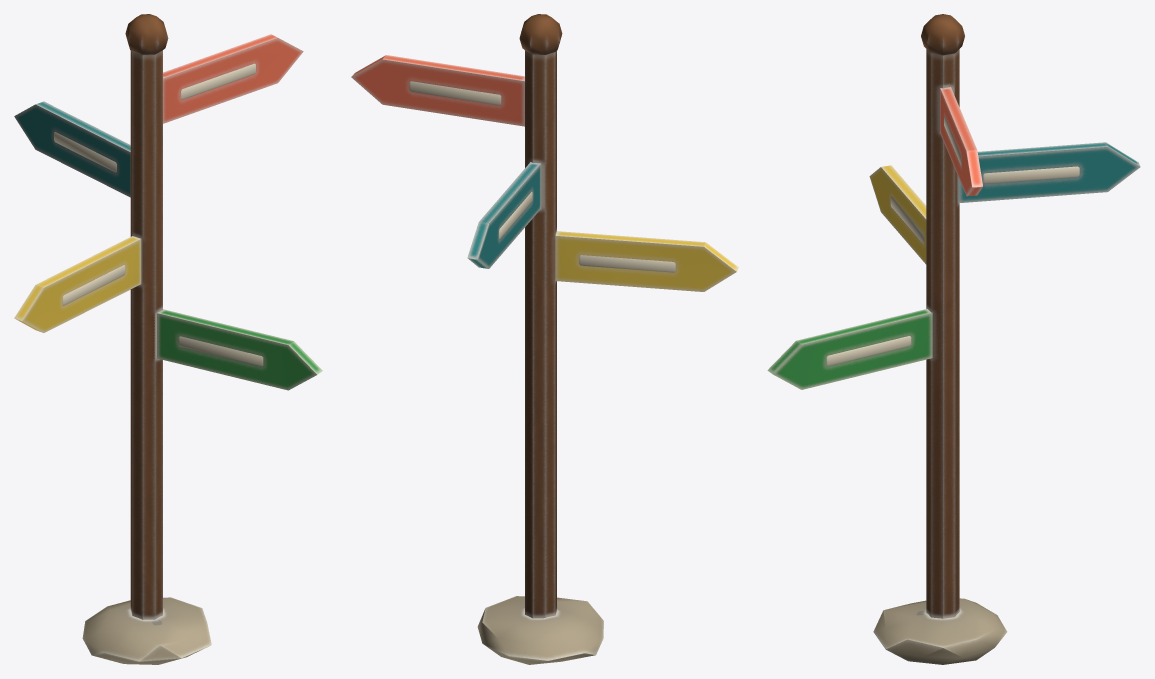
File: dress_signpost.glb
3 renders of one model, left to right at view 1: azimuth 30°, elevation 25°; view 2: azimuth 150°, elevation 25°; view 3: azimuth 270°, elevation 25°, orthographic.
Visible parts, largest first — view 1: SM_DressSignpost; view 2: SM_DressSignpost; view 3: SM_DressSignpost.
Part boxes in pixels (left/top/right/bottom): SM_DressSignpost: left=14, top=14, right=322, bottom=664; SM_DressSignpost: left=351, top=14, right=738, bottom=664; SM_DressSignpost: left=767, top=14, right=1140, bottom=664.
Size of what is drawn, in the model's own units: 1.4 by 2.5 by 1.35.
1 material, 1 textured.
